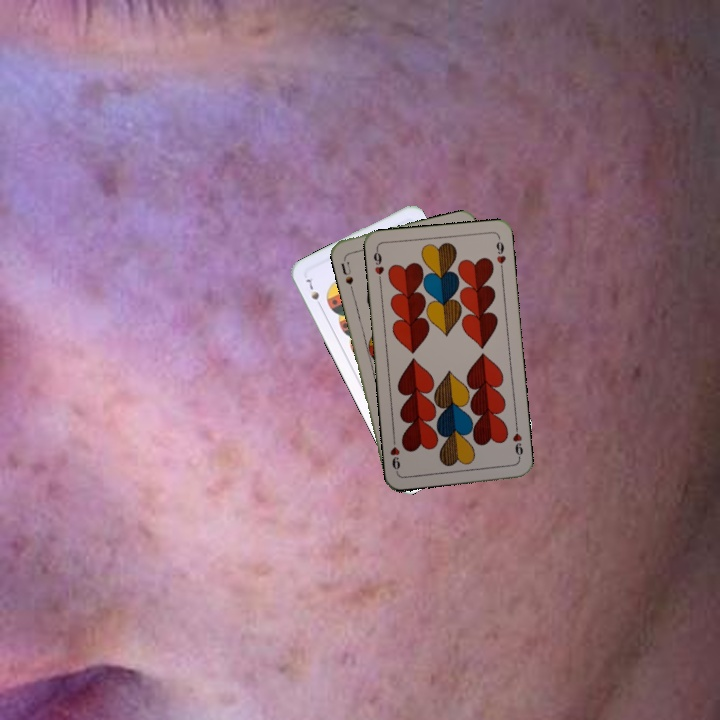H9: (370, 245, 387, 286), (509, 422, 526, 463)
S7: (302, 275, 325, 311)
SU: (337, 253, 356, 287)
